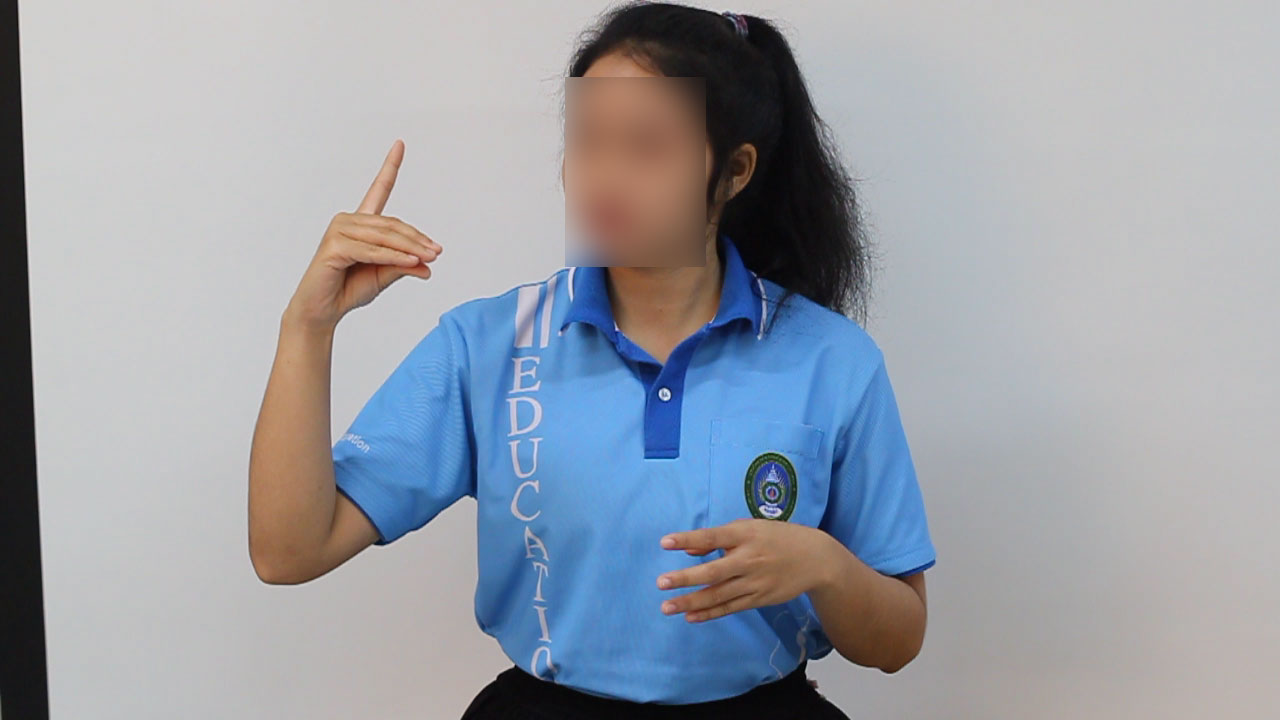dor: (268, 129, 455, 344)
